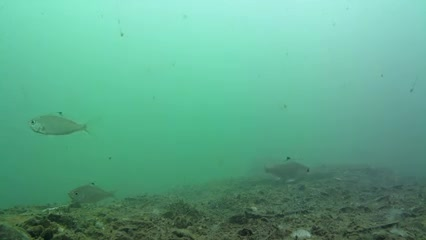smallfish: (22, 105, 94, 142), (251, 155, 326, 187), (71, 182, 127, 212)
